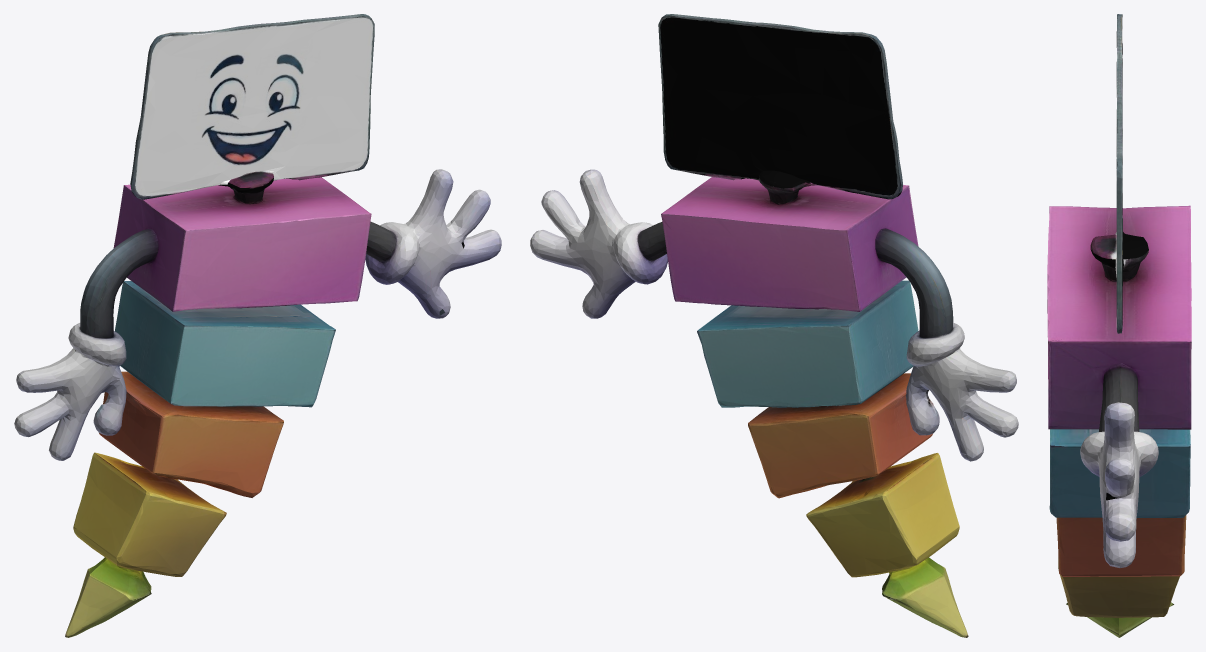
The model's file is salabimplat.glb.
3 views of the same model, side by side, from view 1: azimuth 30°, elevation 25°; view 2: azimuth 150°, elevation 25°; view 3: azimuth 270°, elevation 25° (orthographic). The views are drawn at different scales.
Visible parts, largest first — view 1: world; view 2: world; view 3: world.
Boxes of the visible parts, x1,y1,x2,y2 form: world: (14,14,501,637); world: (530,14,1018,637); world: (1047,14,1191,637).
Size of the model in its own units: 0.8718 by 0.9984 by 0.1978.
Materials: 1 (1 with a texture image).
